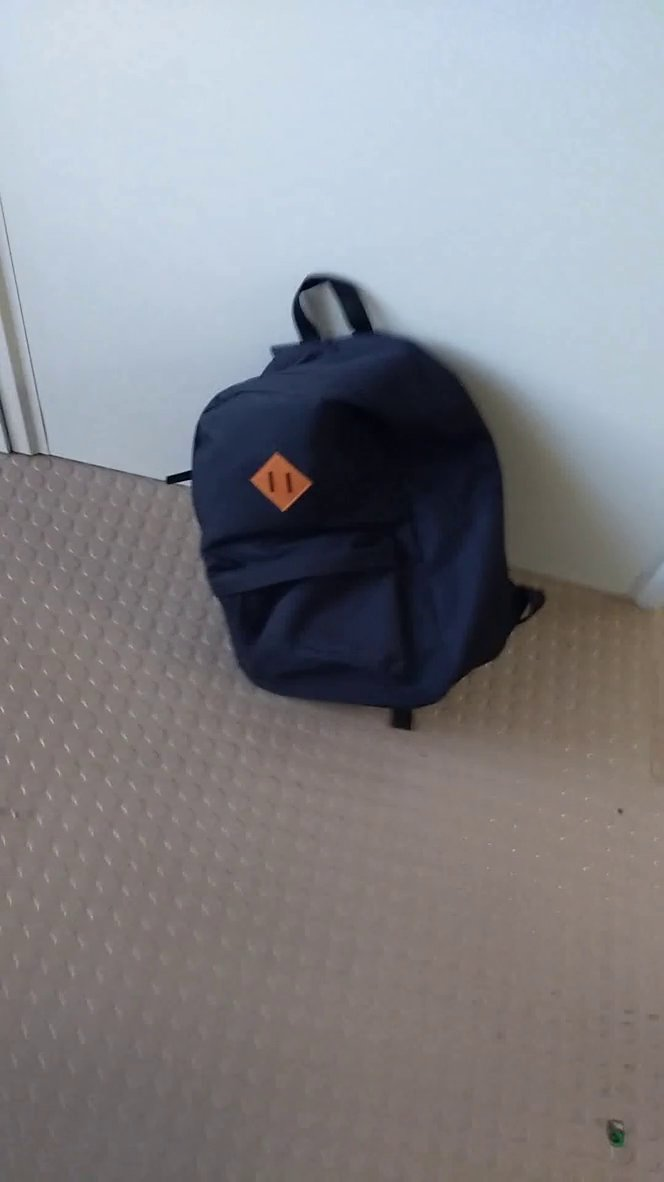bag: (160, 267, 568, 739)
